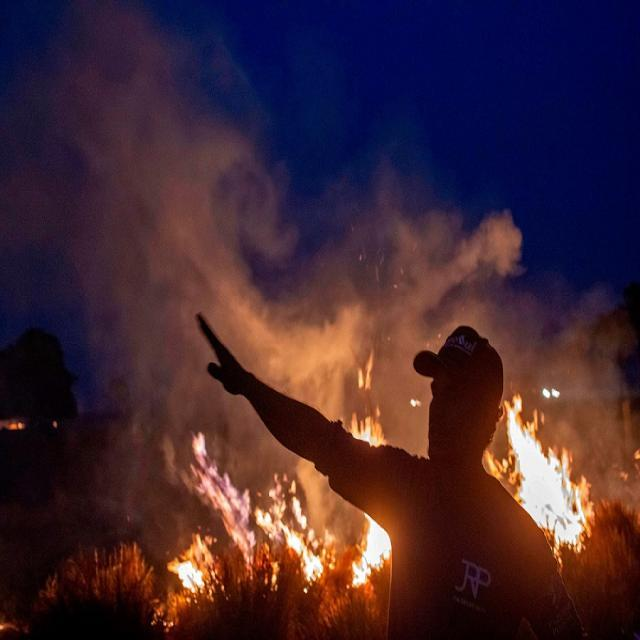Fire: (159, 426, 391, 613), (496, 392, 598, 561), (346, 366, 391, 446)
Smoke: (45, 10, 372, 458), (377, 182, 636, 412)
